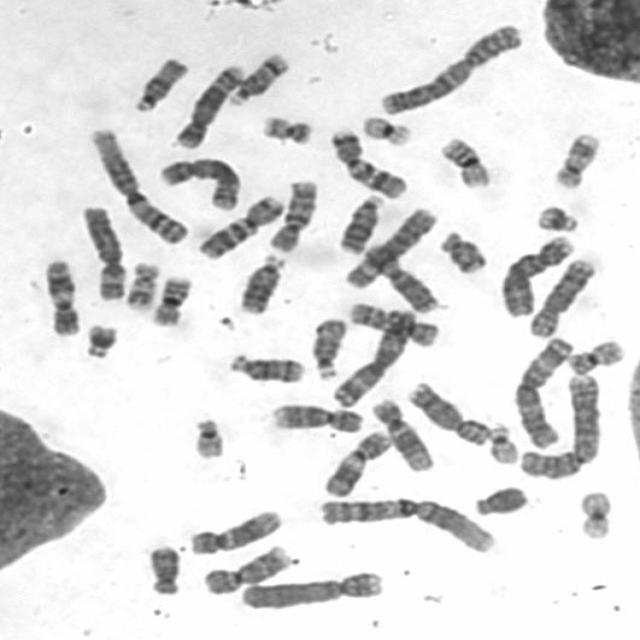A1: (86, 130, 190, 246), (313, 493, 498, 555)
A2: (375, 20, 525, 118), (514, 372, 602, 476)
A3: (328, 304, 418, 408), (510, 332, 575, 447)
B4: (500, 232, 575, 318), (237, 569, 387, 610)
B5: (171, 60, 244, 150), (154, 154, 242, 212)
C10: (345, 298, 440, 348), (264, 176, 319, 253)
C11: (322, 428, 394, 498), (41, 262, 81, 336)
C12: (370, 394, 434, 472), (186, 506, 284, 556)
C6: (338, 202, 438, 290), (77, 205, 127, 302)
C7: (192, 196, 286, 262), (329, 126, 409, 200)
C8: (527, 260, 598, 334), (404, 390, 491, 448)
C9: (200, 543, 295, 597), (269, 400, 365, 430)
D13: (237, 252, 287, 316), (334, 190, 380, 256)
D14: (225, 50, 286, 107), (224, 350, 306, 386)
D15: (129, 54, 189, 114), (307, 312, 348, 380)
E16: (436, 134, 489, 190), (147, 272, 193, 326)
E17: (550, 127, 602, 190), (122, 260, 162, 312)
E18: (436, 227, 492, 274), (142, 542, 183, 597)
F19: (356, 112, 414, 148), (575, 489, 613, 541)
F20: (563, 332, 622, 377), (257, 108, 312, 147)
G21: (81, 320, 119, 360), (536, 202, 581, 232)
G22: (187, 414, 229, 456), (482, 423, 515, 468)
X: (365, 244, 435, 314)
Y: (471, 482, 529, 518)
